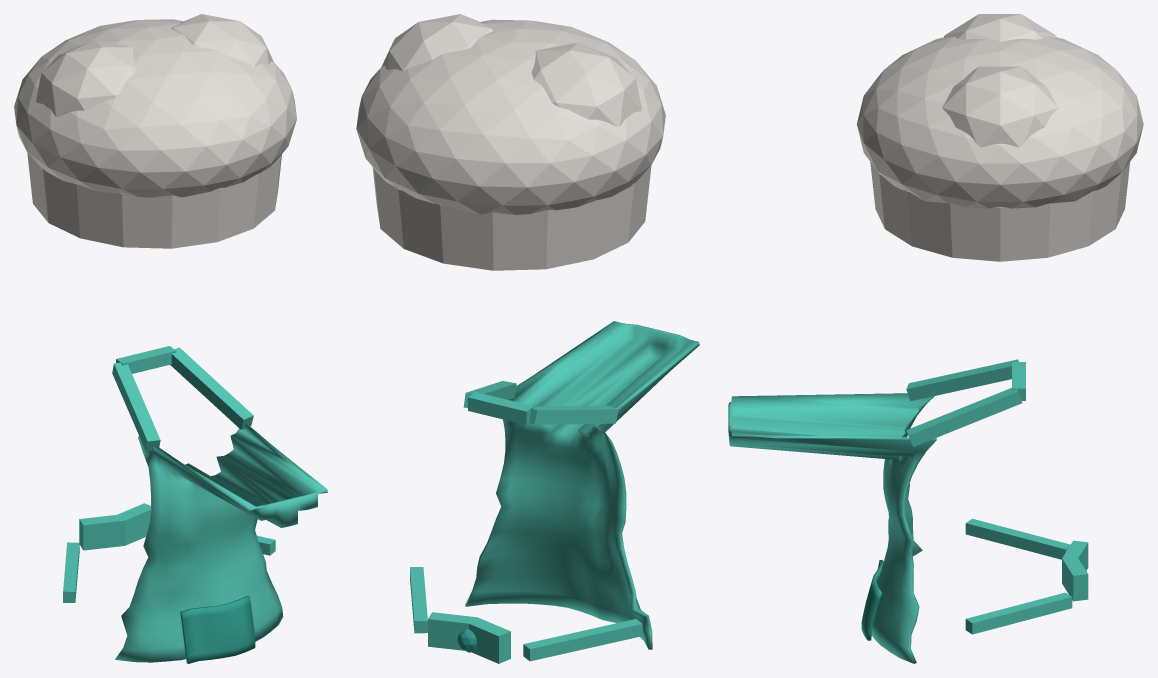
Rendered from Outfit_Kitchen.fbx.
The picture shows the model from 3 angles, left to right: view 1: azimuth 30°, elevation 25°; view 2: azimuth 150°, elevation 25°; view 3: azimuth 270°, elevation 25°; orthographic projection. The views are drawn at different scales.
Parts seen in each view (by area): view 1: ChefHat__Head, Apron__spine.002, ApronStrap__spine.004, ApronPocket__spine.002, ApronTie__spine; view 2: ChefHat__Head, Apron__spine.002, ApronTie__spine, ApronStrap__spine.004; view 3: ChefHat__Head, Apron__spine.002, ApronTie__spine, ApronStrap__spine.004, ApronPocket__spine.002.
Boxes of the visible parts, bbox=[...] form: ChefHat__Head: bbox=[14, 14, 296, 248]; Apron__spine.002: bbox=[115, 424, 327, 662]; ApronStrap__spine.004: bbox=[112, 346, 253, 451]; ApronPocket__spine.002: bbox=[180, 596, 255, 663]; ApronTie__spine: bbox=[63, 503, 275, 602]; ChefHat__Head: bbox=[356, 14, 665, 270]; Apron__spine.002: bbox=[465, 321, 699, 649]; ApronTie__spine: bbox=[410, 567, 642, 663]; ApronStrap__spine.004: bbox=[463, 381, 618, 424]; ChefHat__Head: bbox=[856, 14, 1143, 261]; Apron__spine.002: bbox=[728, 393, 936, 663]; ApronTie__spine: bbox=[965, 518, 1088, 634]; ApronStrap__spine.004: bbox=[906, 359, 1025, 446]; ApronPocket__spine.002: bbox=[861, 560, 883, 640].
Size of the model in its own units: 0.46 by 1.02 by 0.666.
